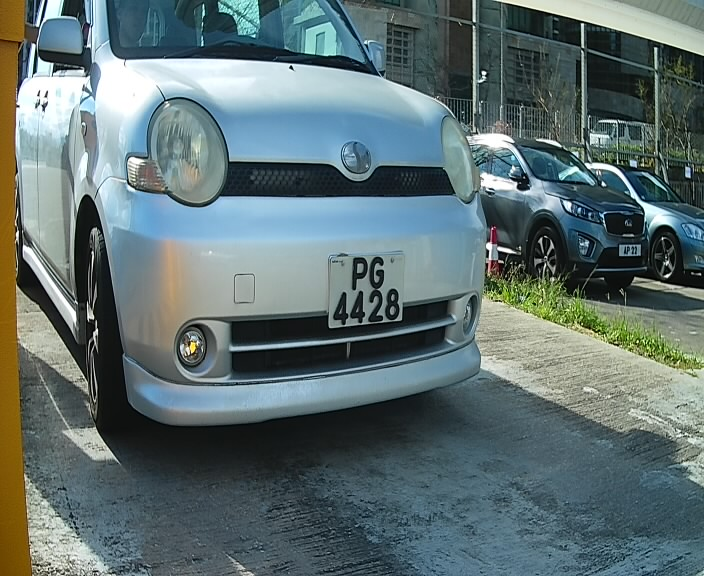Car: (2, 2, 516, 462)
License Plate: (314, 245, 419, 345)
